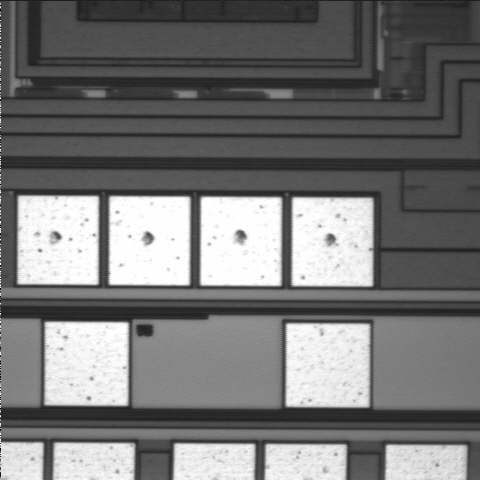pad: (200, 197, 282, 286), (18, 196, 99, 285), (109, 196, 190, 285), (292, 197, 373, 286), (286, 323, 370, 407), (45, 322, 128, 406)
